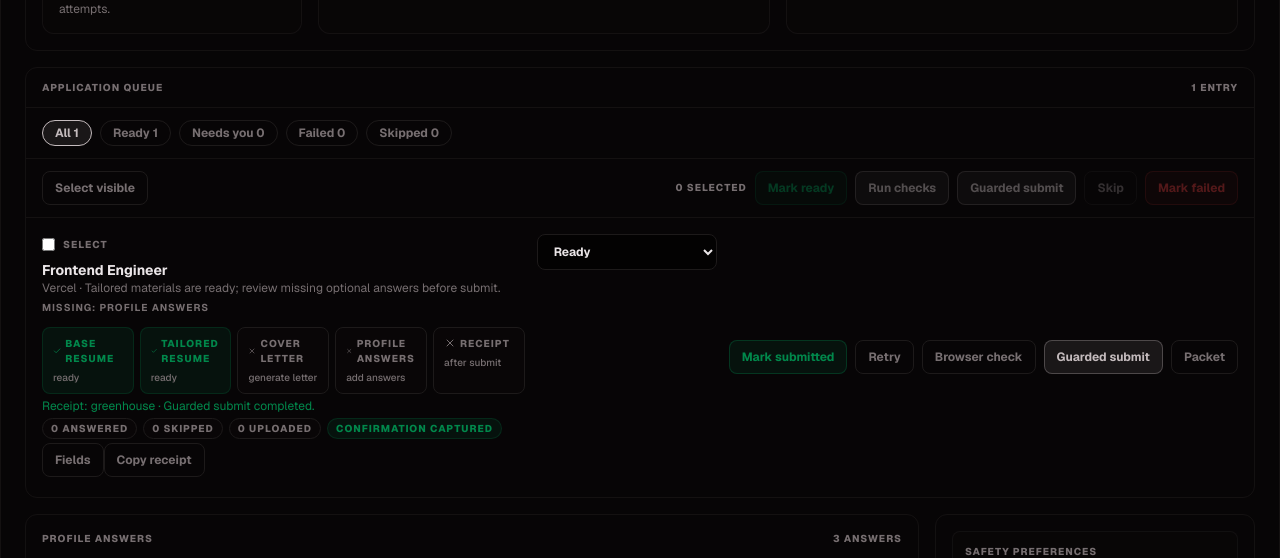
Test: ApplyAgentCommandCenter › blocks guarded submit when the daily cap is reached
The image size is (1280, 558).
(page scrolled)
What coordinates should you click on to do the following:
click the button "Guarded submit" in the row of "after submit"
I would click on:
 (1103, 357)
Its box is 1044,340 -> 1163,374.
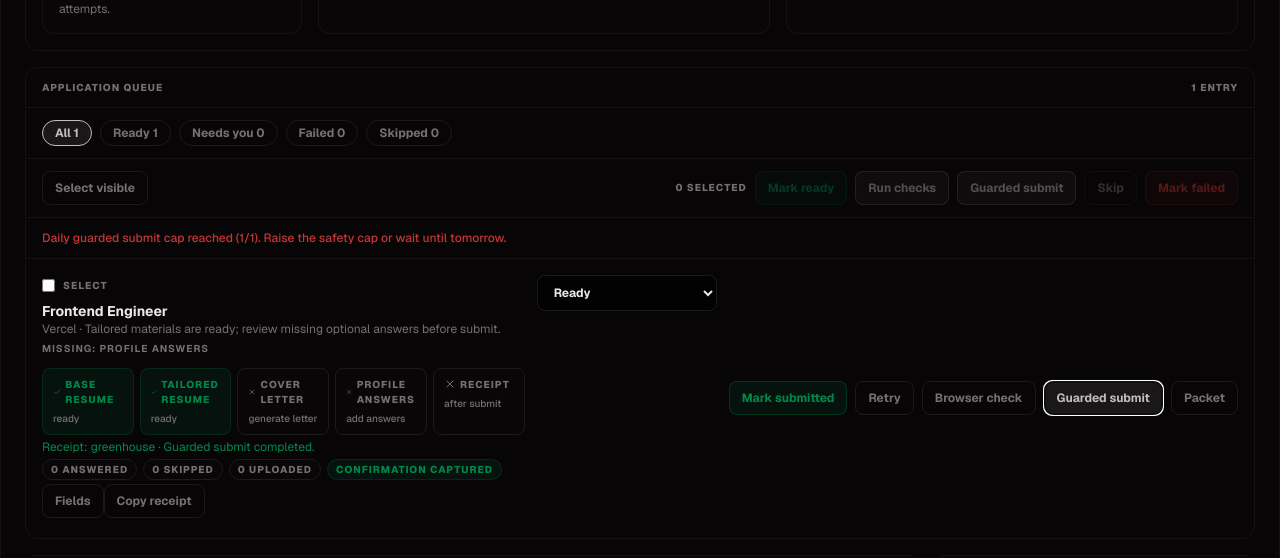
Result: the text "Daily guarded submit cap reached (1/1)" is shown at 42,230 -> 506,246
